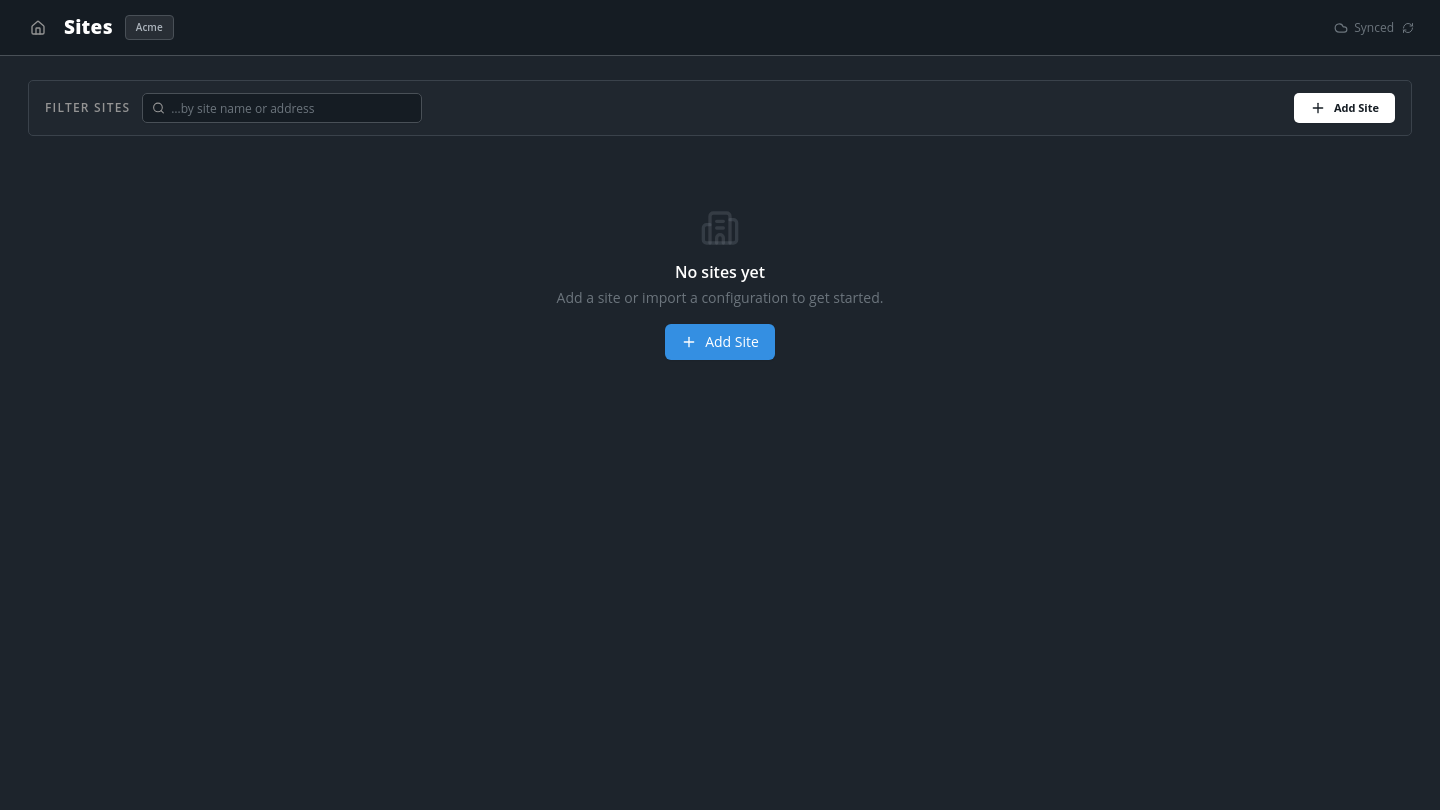
add a site › will not submit an empty name
Click the button "Add Site" in the row of "Filter Sites": (1344, 108) [1294,93,1395,123]
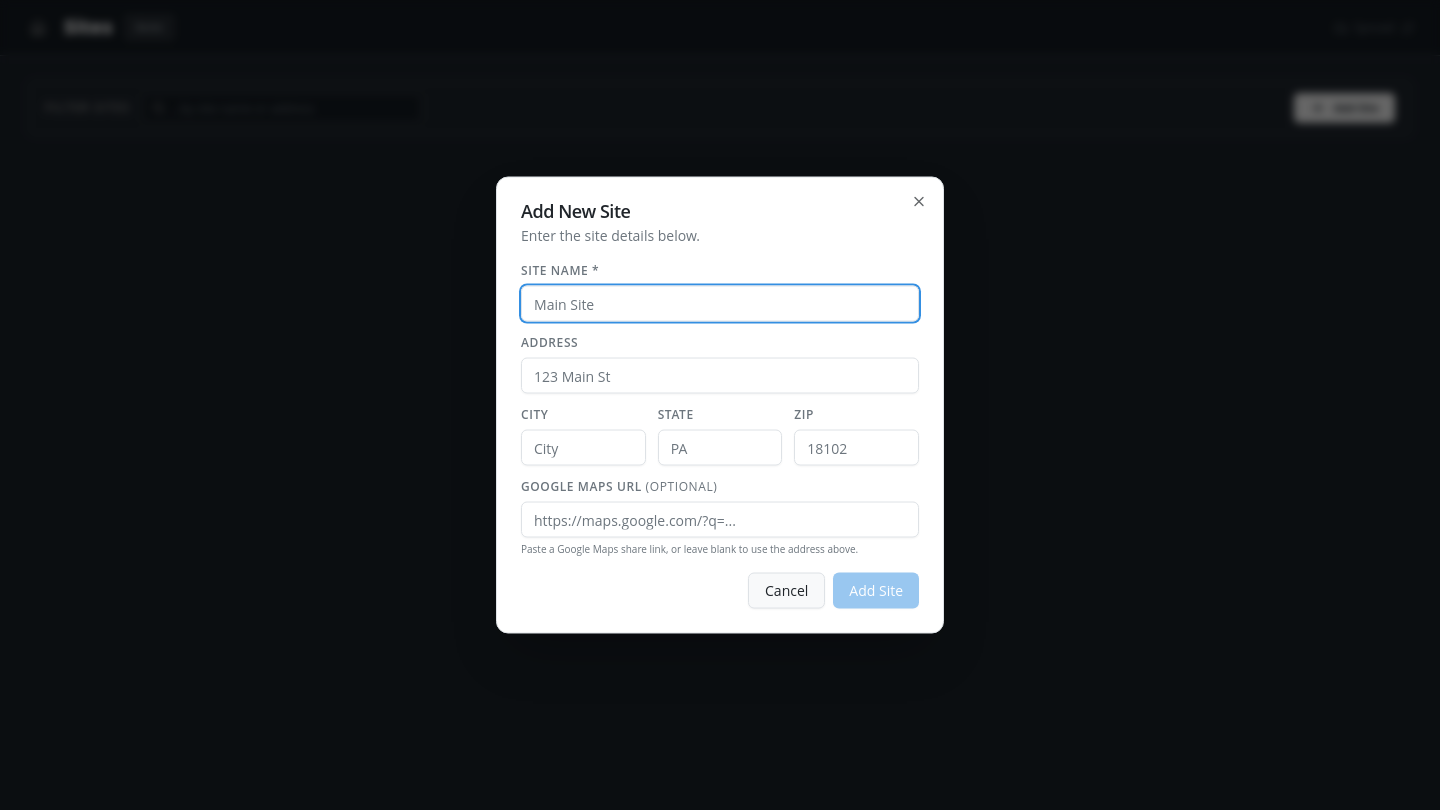
Now the button "Add Site" is disabled, box [833,572,919,608]
